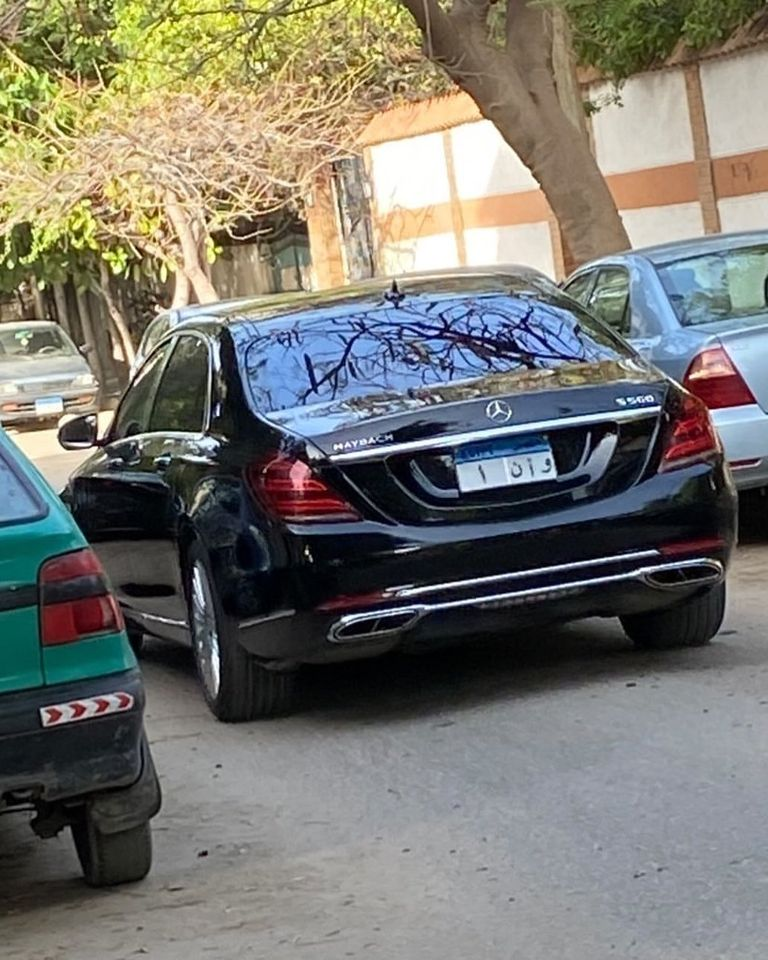carpl: (450, 435, 560, 494)
